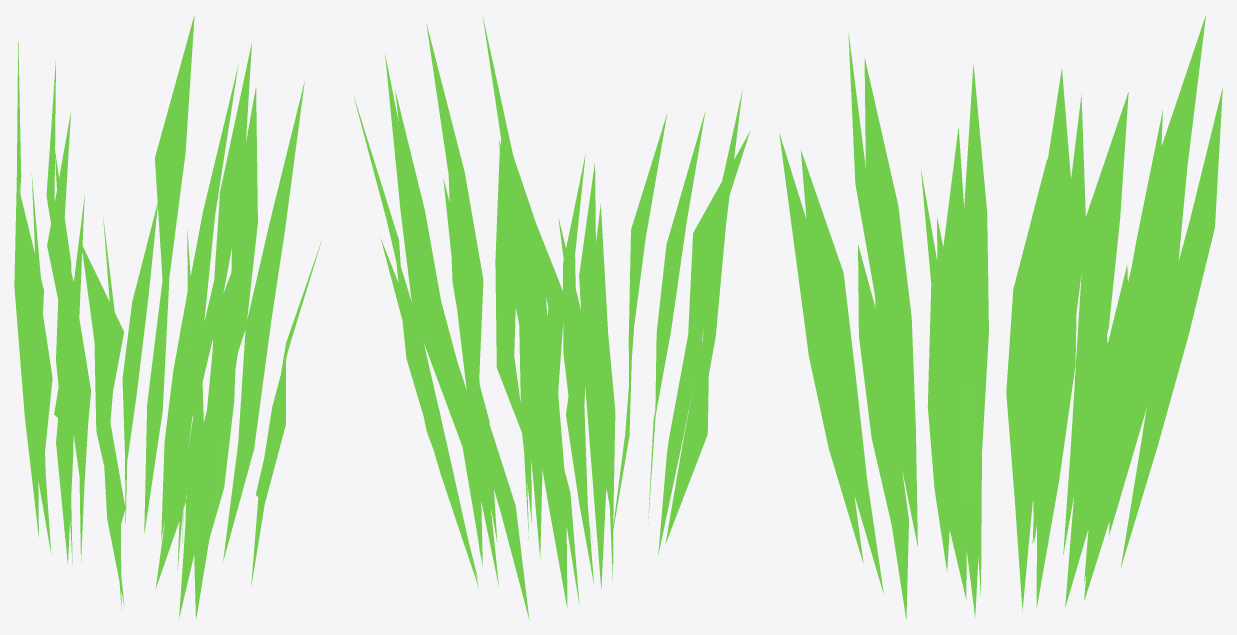
The model's file is grass.001.fbx.
The picture shows the model from 3 angles, left to right: view 1: azimuth 30°, elevation 25°; view 2: azimuth 150°, elevation 25°; view 3: azimuth 270°, elevation 25°; orthographic projection. The views are drawn at different scales.
Parts seen in each view (by area): view 1: Plane; view 2: Plane; view 3: Plane.
Part boxes in pixels (bbox=[...]): Plane: bbox=[14, 15, 322, 619]; Plane: bbox=[353, 16, 750, 619]; Plane: bbox=[779, 15, 1222, 619].
Size of the model in its own units: 3.69 by 6.76 by 4.7.
